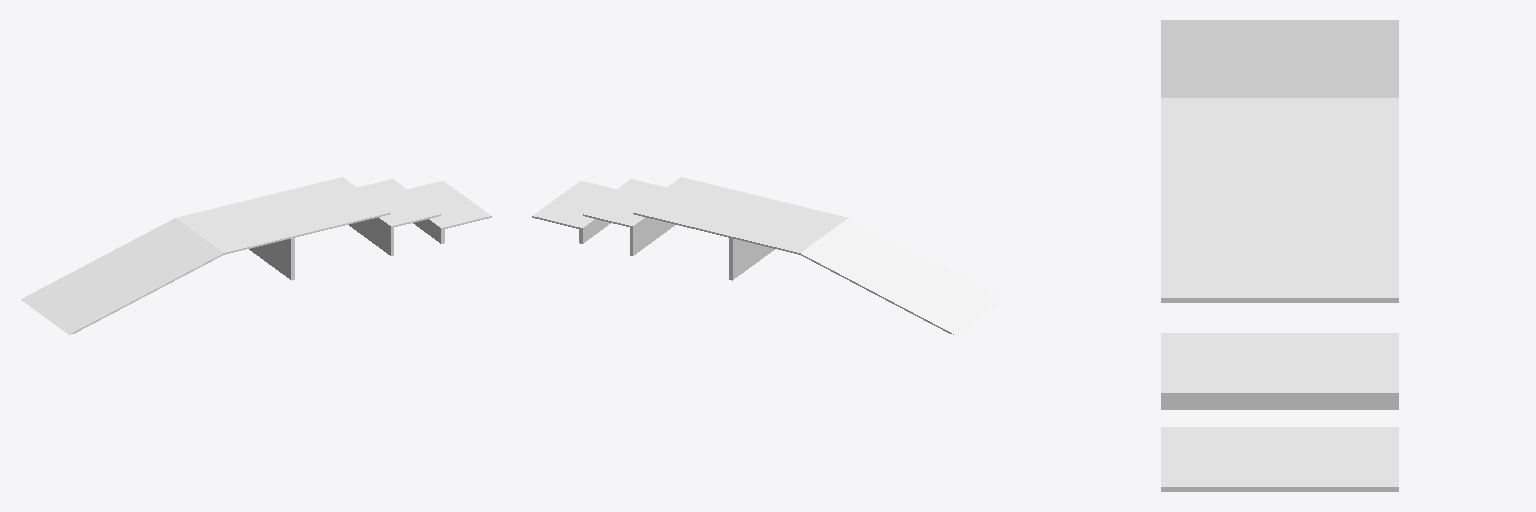
URDF robot description (map15):
<?xml version="1.0" encoding="utf-8"?>
<!-- This URDF was automatically created by SolidWorks to URDF Exporter! Originally created by [author] ([email redacted]) 
     Commit Version: 1.6.0-1-g15f4949  Build Version: 1.6.7594.29634
     For more information, please see http://wiki.ros.org/sw_urdf_exporter -->
<robot
  name="map15">
  <link
    name="map15">
    <inertial>
      <origin
        xyz="-0.0383133401164805 0 -0.0998769834139617"
        rpy="0 0 0" />
      <mass
        value="20.7836828112376" />
      <inertia
        ixx="0.758994066189981"
        ixy="-4.40580065936708E-16"
        ixz="-0.00325440294824095"
        iyy="9.45428667939637"
        iyz="7.77422767699829E-17"
        izz="9.94231358188064" />
    </inertial>
    <visual>
      <origin
        xyz="0 0 0"
        rpy="0 0 0" />
      <geometry>
        <mesh
          filename="package://map15/meshes/map15.STL" />
      </geometry>
      <material
        name="">
        <color
          rgba="1 1 1 1" />
      </material>
    </visual>
    <collision>
      <origin
        xyz="0 0 0"
        rpy="0 0 0" />
      <geometry>
        <mesh
          filename="package://map15/meshes/map15.STL" />
      </geometry>
    </collision>
  </link>
</robot>

--- What the picture shows (computed from the rendered views, not written in the file) ---
The picture shows the robot from 3 angles, left to right: view 1: azimuth 30°, elevation 25°; view 2: azimuth 150°, elevation 25°; view 3: azimuth 270°, elevation 25°; orthographic projection.
Robot: map15 — 1 links, 0 joints (none); root link map15; default pose: all joints at 0.
Links seen in each view (by area): view 1: map15; view 2: map15; view 3: map15.
Link boxes in pixels (<box>): map15: <box>21,177,491,334</box>; map15: <box>532,177,1002,334</box>; map15: <box>1161,20,1398,491</box>.
Size in the robot's own frame: 2.52 by 0.5 by 0.25 metres.
1 mesh visuals loaded from 1 distinct referenced files (1 binary STL).